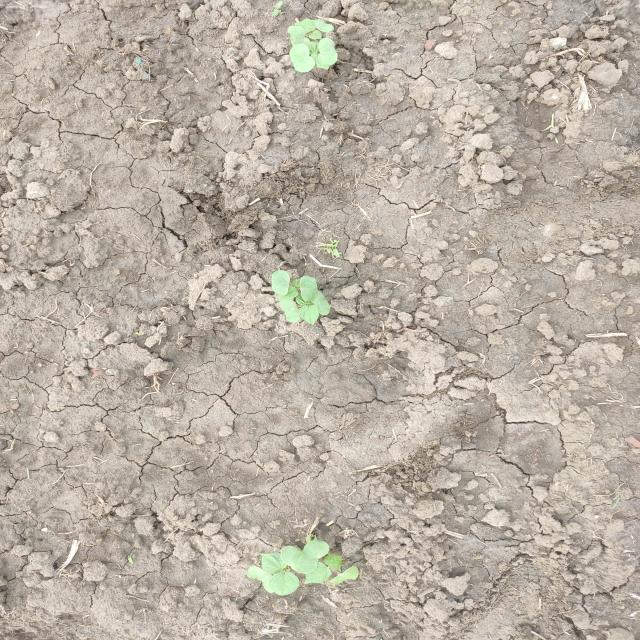seedling_s4: (297, 540, 329, 572), (281, 546, 310, 574), (268, 572, 300, 596), (289, 44, 316, 72), (247, 566, 274, 593), (304, 562, 331, 584), (260, 552, 287, 574), (318, 38, 337, 66), (330, 566, 359, 584), (271, 270, 290, 296), (287, 26, 311, 46), (280, 299, 300, 323), (300, 275, 318, 301), (311, 291, 330, 315), (299, 305, 319, 325), (278, 285, 299, 301), (294, 18, 315, 33), (312, 19, 334, 33), (311, 53, 329, 70), (324, 555, 342, 571), (304, 39, 319, 55), (296, 292, 312, 306), (309, 30, 322, 40)
